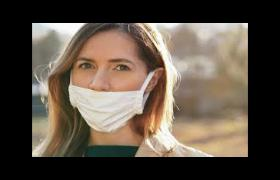mask_weared_incorrect: (67, 54, 154, 122)
